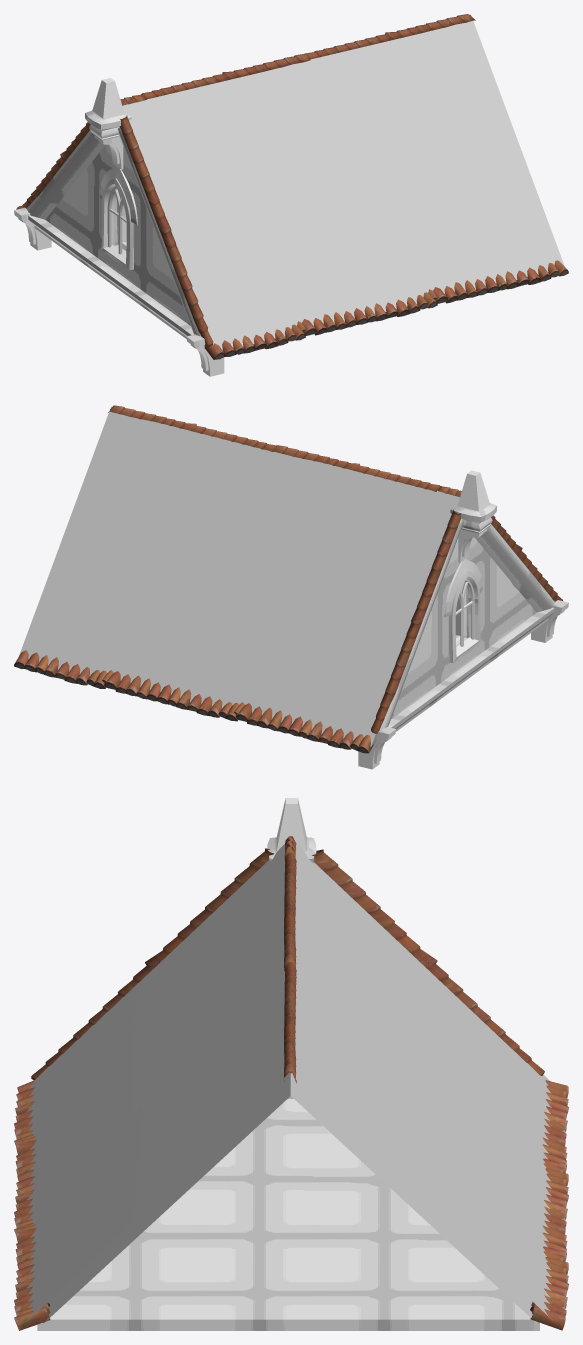
The model's file is SM_BlacksmithS_Roof_A.fbx.
3 views of the same model, one above another, from view 1: azimuth 30°, elevation 25°; view 2: azimuth 150°, elevation 25°; view 3: azimuth 270°, elevation 25° (orthographic). The views are drawn at different scales.
Visible parts, largest first — view 1: SM_BlacksmithS_Roof_A_LOD0; view 2: SM_BlacksmithS_Roof_A_LOD0; view 3: SM_BlacksmithS_Roof_A_LOD0.
Part boxes in pixels (left/top/right/bottom): SM_BlacksmithS_Roof_A_LOD0: left=14, top=14, right=568, bottom=376; SM_BlacksmithS_Roof_A_LOD0: left=14, top=405, right=568, bottom=769; SM_BlacksmithS_Roof_A_LOD0: left=14, top=798, right=568, bottom=1330.
Size of what is drawn, in the model's own units: 12.35 by 7.17 by 11.23.
